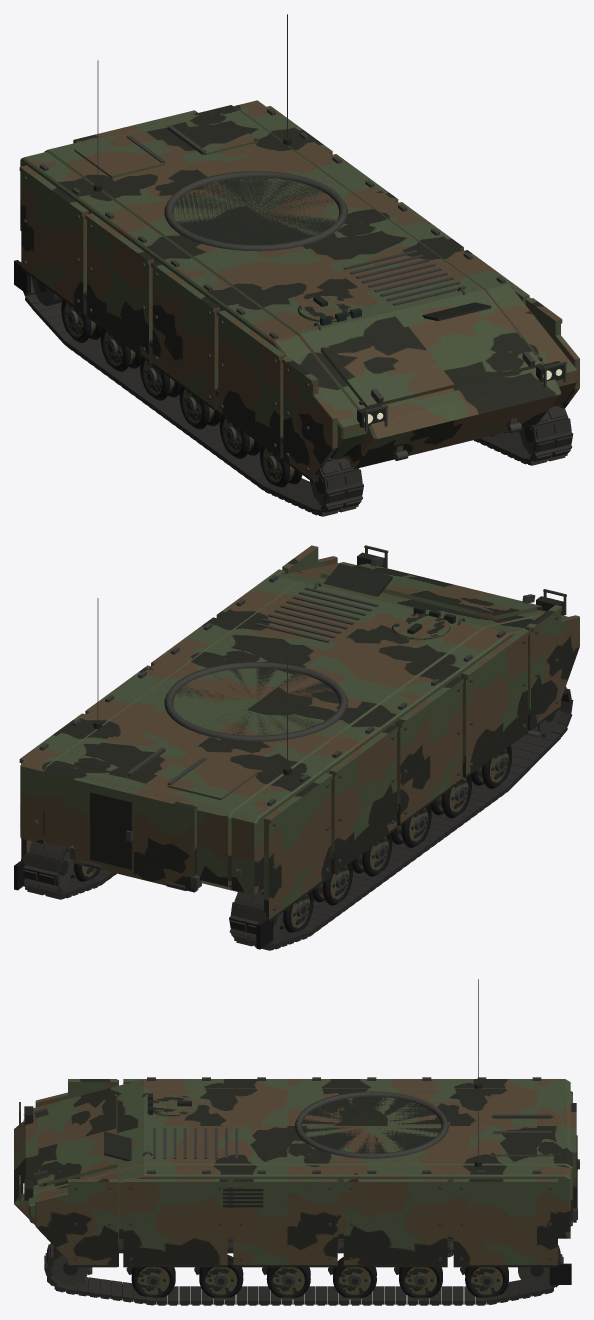
Rendered from k21_hull.glb.
The picture shows the model from 3 angles, top to bottom: view 1: azimuth 30°, elevation 25°; view 2: azimuth 150°, elevation 25°; view 3: azimuth 270°, elevation 25°; orthographic projection. The views are drawn at different scales.
Visible parts, largest first — view 1: hull_paint, hull_dark, hull_track, hull_steel, hull_rubber; view 2: hull_paint, hull_track, hull_steel, hull_dark, hull_rubber; view 3: hull_paint, hull_dark, hull_track, hull_steel, hull_rubber.
Part boxes in pixels (x1,y1,x2,y2): hull_paint: [19, 100, 579, 482]; hull_dark: [21, 137, 563, 493]; hull_track: [23, 276, 573, 516]; hull_steel: [23, 14, 566, 505]; hull_rubber: [14, 260, 506, 487]; hull_paint: [19, 545, 579, 927]; hull_track: [22, 687, 573, 950]; hull_steel: [39, 545, 566, 937]; hull_dark: [21, 552, 563, 926]; hull_rubber: [14, 745, 512, 949]; hull_paint: [14, 1079, 576, 1294]; hull_dark: [24, 1082, 577, 1290]; hull_track: [44, 1238, 563, 1305]; hull_steel: [19, 979, 579, 1287]; hull_rubber: [131, 1255, 571, 1299].
Bounding box in the file's own units: 3.32 × 3.57 × 7.71.
8 materials, 1 textured.
